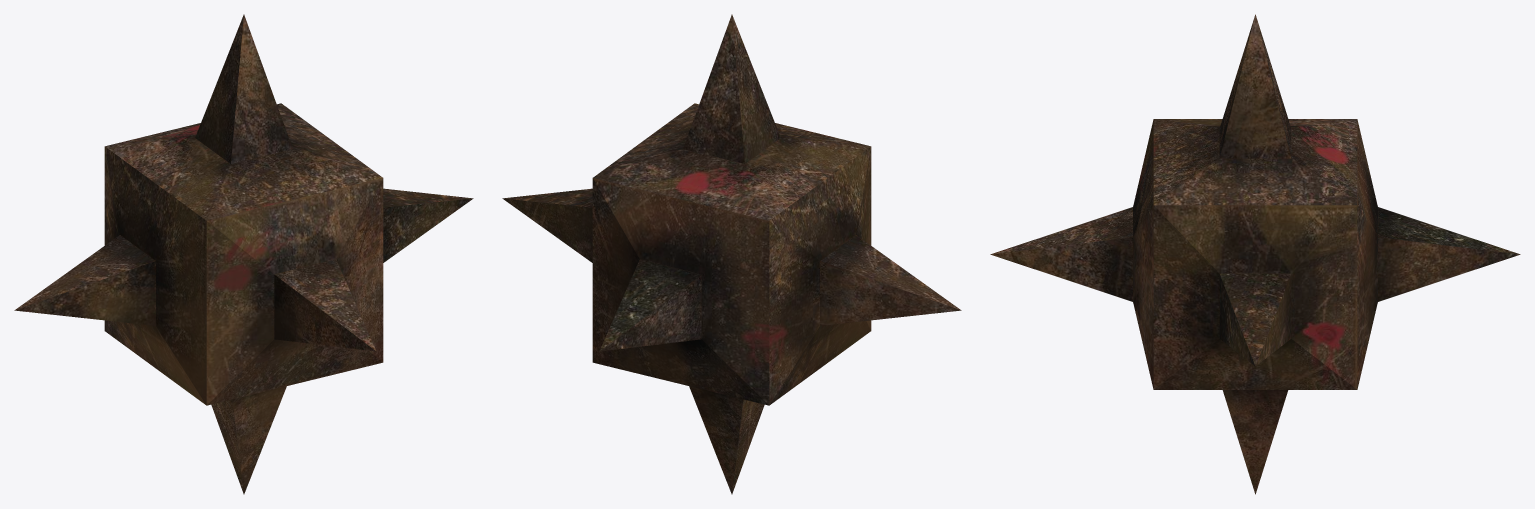
Rendered from Pinchos.fbx.
3 views of the same model, side by side, from view 1: azimuth 30°, elevation 25°; view 2: azimuth 150°, elevation 25°; view 3: azimuth 270°, elevation 25° (orthographic).
Visible parts, largest first — view 1: Cube; view 2: Cube; view 3: Cube.
Part boxes in pixels (bbox=[...]): Cube: bbox=[14, 14, 473, 494]; Cube: bbox=[502, 14, 961, 494]; Cube: bbox=[990, 14, 1520, 494].
Bounding box in the file's own units: 521 × 521 × 521.
Materials: 1 (1 with a texture image).
